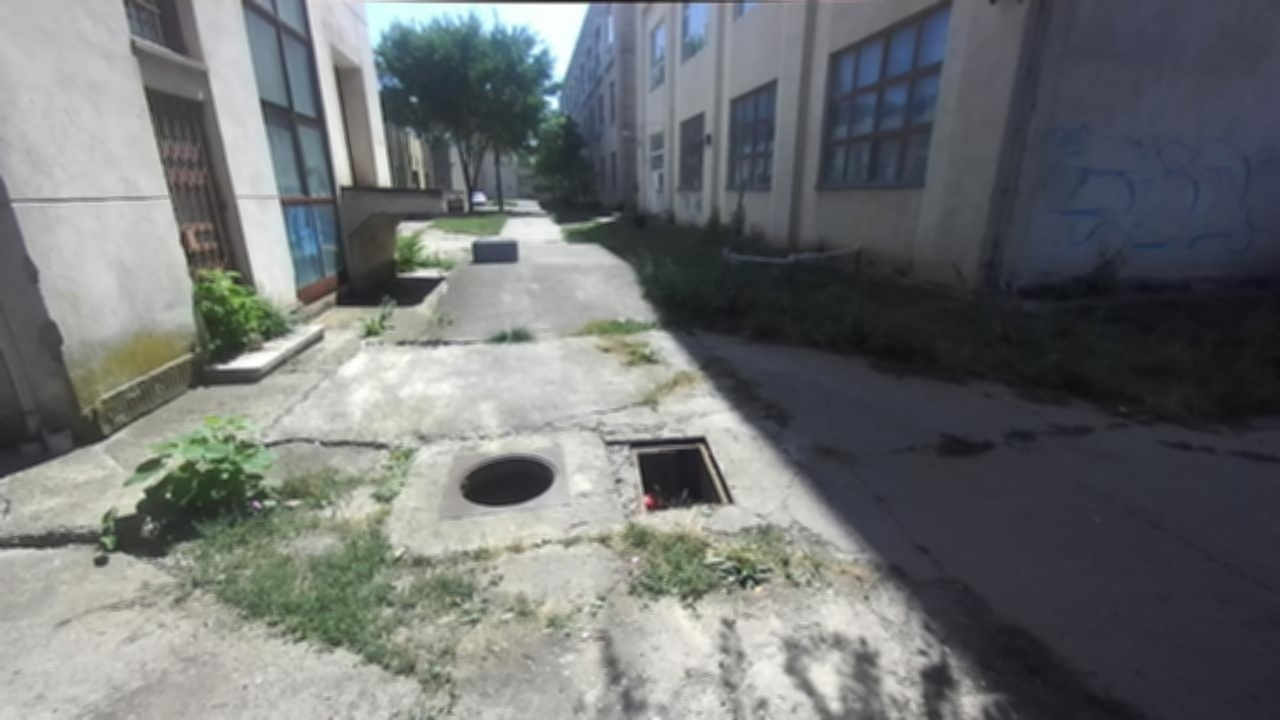drain: (626, 432, 740, 517), (451, 450, 569, 509)
